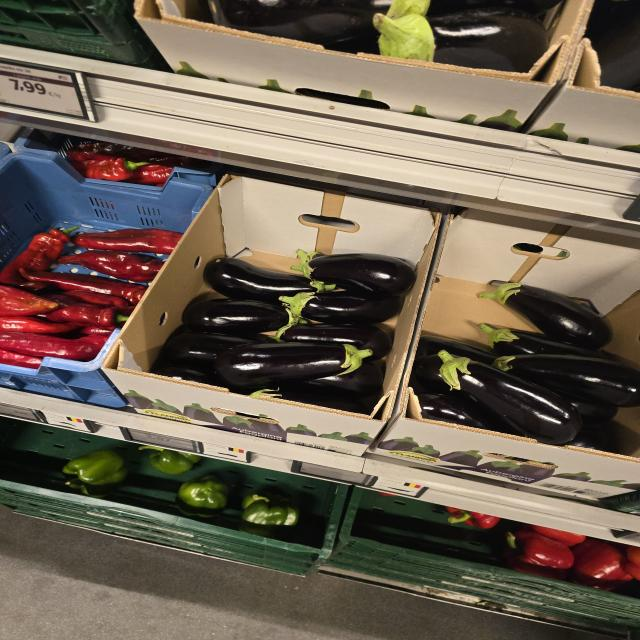Bell Pepper: (503, 530, 574, 580), (570, 540, 632, 590), (63, 449, 127, 497), (240, 492, 299, 537), (176, 476, 228, 516), (139, 445, 200, 475)
Eggplant: (438, 350, 581, 444), (478, 283, 612, 350), (493, 354, 640, 408), (215, 343, 373, 386), (204, 257, 335, 301), (291, 253, 416, 298), (477, 323, 606, 360), (267, 324, 394, 361), (182, 298, 307, 335), (279, 290, 404, 324)
